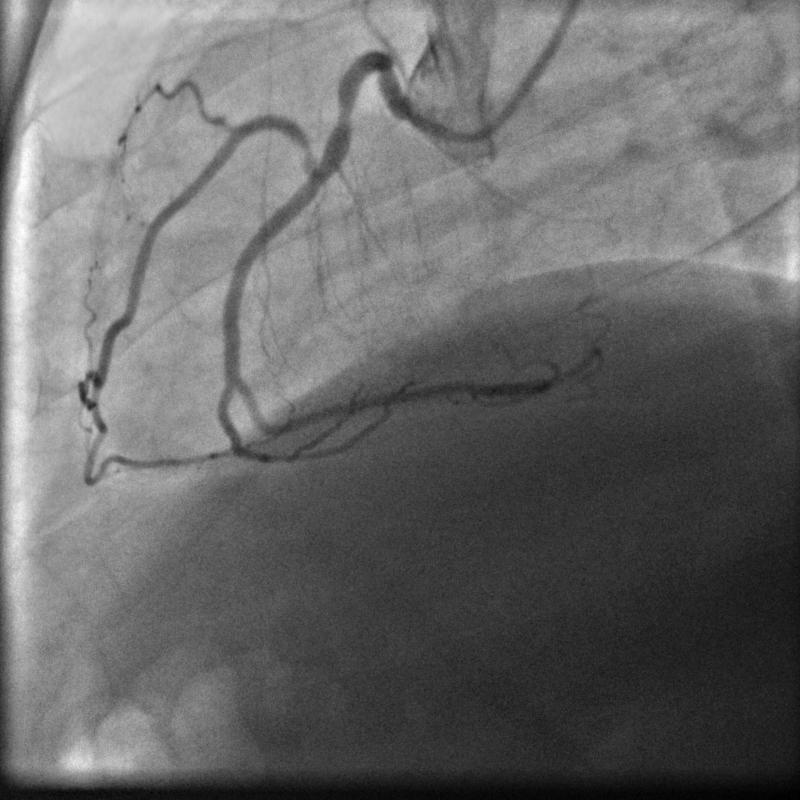Stenosis: (330, 92, 356, 135)
